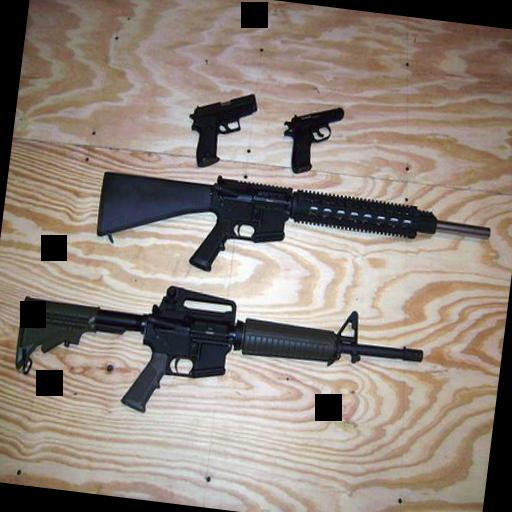Handgun: (183, 77, 260, 170), (273, 95, 344, 174)
